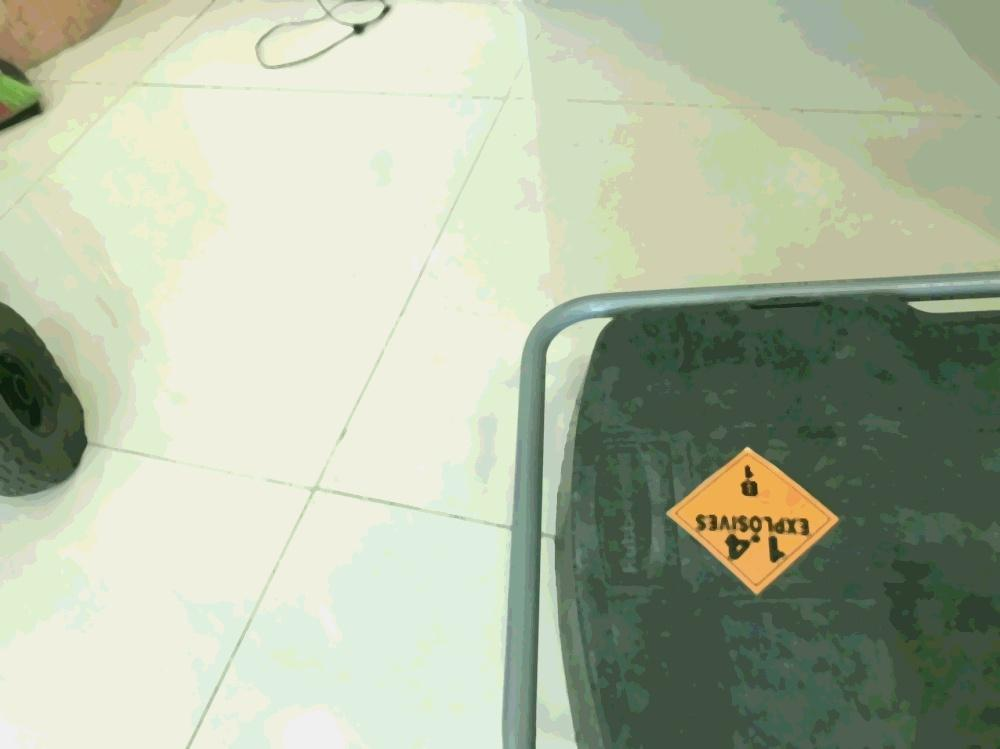explosive: (669, 445, 835, 593)
